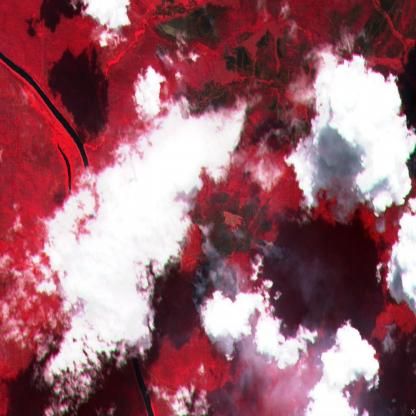fire: (183, 205, 277, 337), (150, 37, 200, 64)
